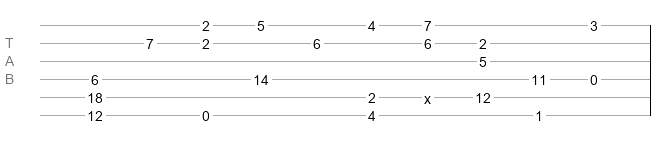0: (202, 108, 210, 118), (590, 72, 598, 82)
1: (535, 108, 543, 118)
11: (531, 72, 547, 82)
12: (87, 108, 103, 118), (475, 90, 491, 100)
14: (253, 72, 269, 82)
18: (87, 90, 103, 100)
2: (202, 18, 210, 28), (202, 36, 210, 46), (368, 90, 376, 100), (479, 36, 487, 46)
3: (590, 18, 598, 28)
4: (368, 108, 376, 118), (368, 18, 376, 28)
5: (257, 18, 265, 28), (479, 54, 487, 64)
6: (91, 72, 99, 82), (313, 36, 321, 46), (424, 36, 432, 46)
7: (146, 36, 154, 46), (424, 18, 432, 28)
x: (424, 91, 431, 99)
